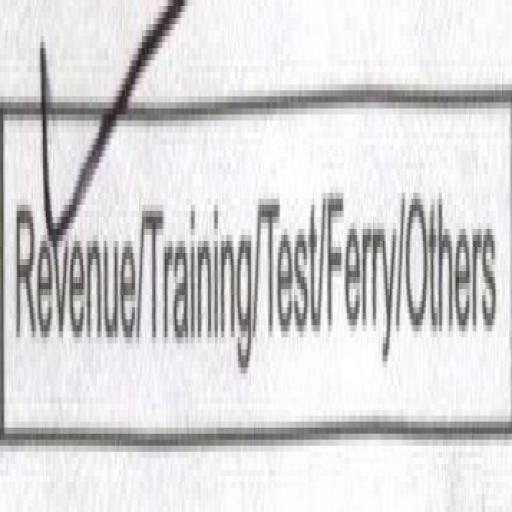check: (0, 0, 143, 456)
